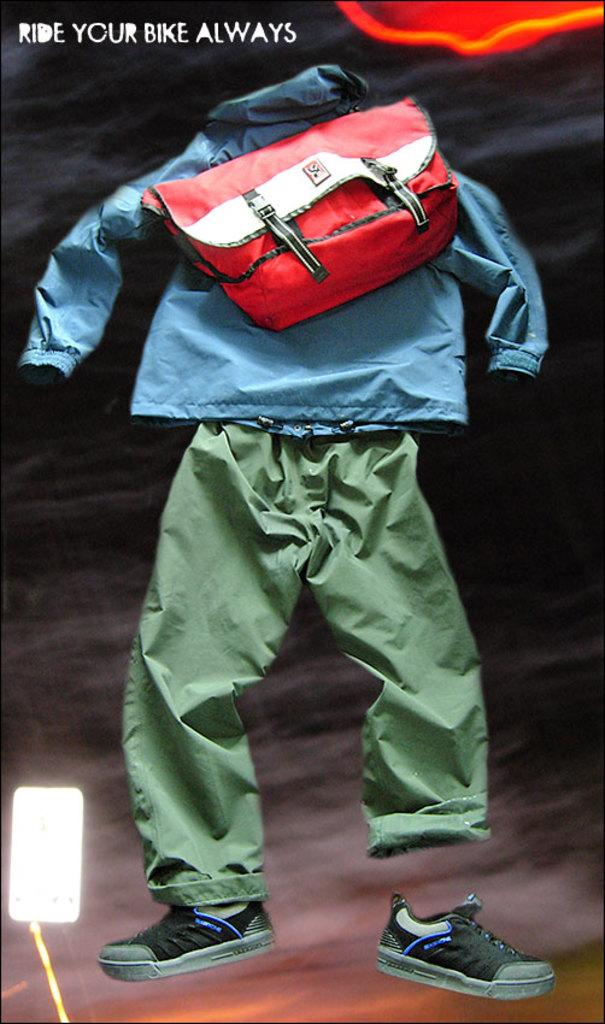Luggage-and-bags: (147, 90, 462, 365)
